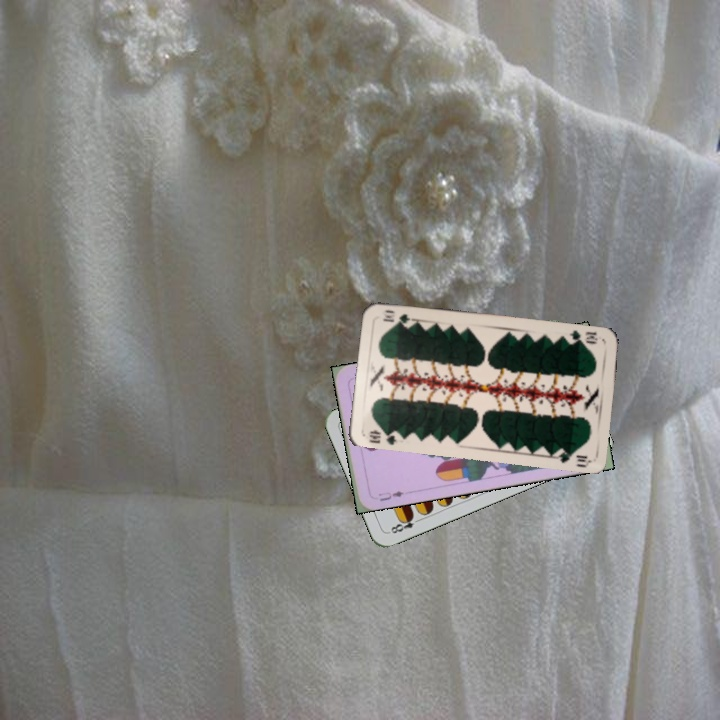E8: (385, 511, 424, 536)
EU: (374, 487, 406, 504)
G10: (365, 425, 403, 446), (565, 326, 600, 347)
